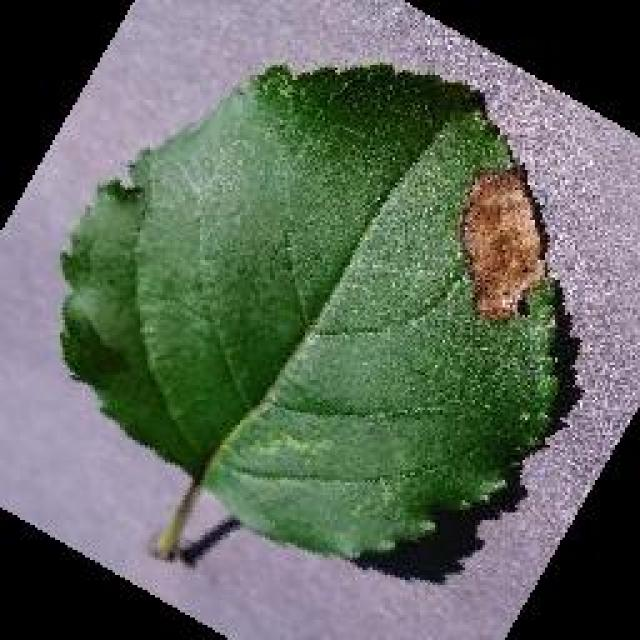Black_rot: (58, 58, 562, 562)
